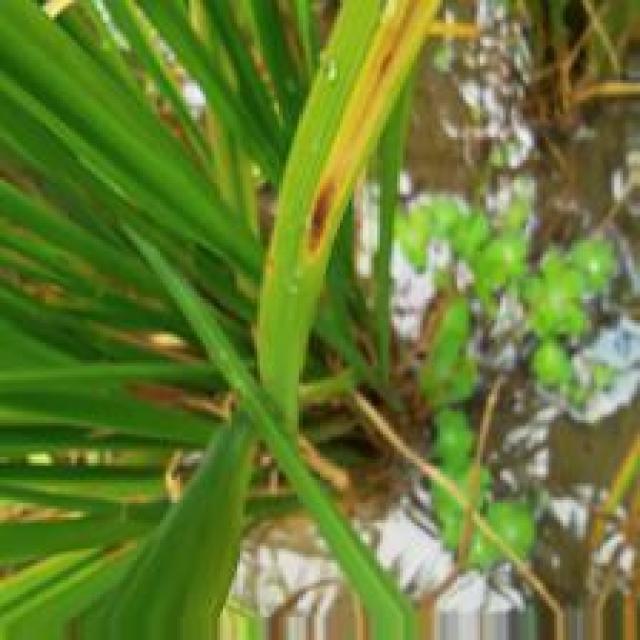Narrow_Brown_Leaf_Spot: (300, 0, 452, 267)
